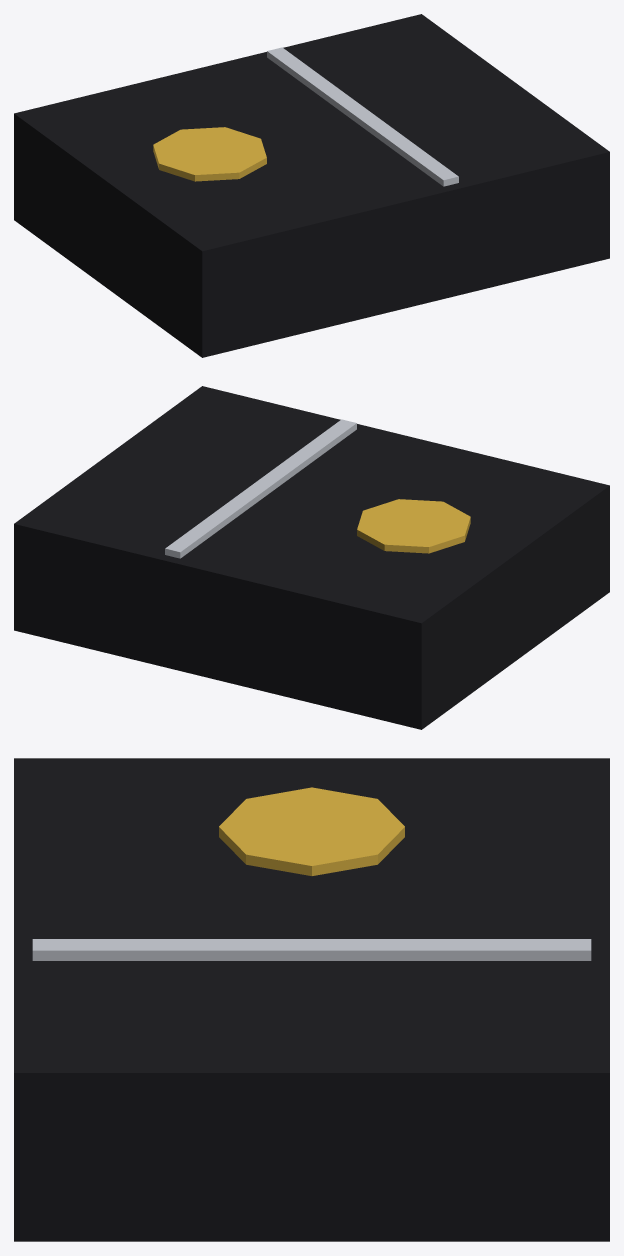
The model's file is folded_biker_jacket.glb.
3 renders of one model, top to bottom at view 1: azimuth 30°, elevation 25°; view 2: azimuth 150°, elevation 25°; view 3: azimuth 270°, elevation 25°, orthographic. The views are drawn at different scales.
Parts seen in each view (by area): view 1: jacket_biker_leather, patches_biker_patch_d8b040, zip_biker_silver; view 2: jacket_biker_leather, patches_biker_patch_d8b040, zip_biker_silver; view 3: jacket_biker_leather, patches_biker_patch_d8b040, zip_biker_silver.
Boxes of the visible parts, bbox=[...] form: jacket_biker_leather: bbox=[14, 14, 609, 357]; patches_biker_patch_d8b040: bbox=[153, 127, 266, 181]; zip_biker_silver: bbox=[267, 47, 458, 186]; jacket_biker_leather: bbox=[14, 386, 609, 729]; patches_biker_patch_d8b040: bbox=[357, 499, 470, 553]; zip_biker_silver: bbox=[165, 419, 356, 558]; jacket_biker_leather: bbox=[14, 758, 609, 1241]; patches_biker_patch_d8b040: bbox=[219, 787, 404, 875]; zip_biker_silver: bbox=[32, 939, 591, 960].
Bounding box in the file's own units: 0.4 × 0.106 × 0.32.
